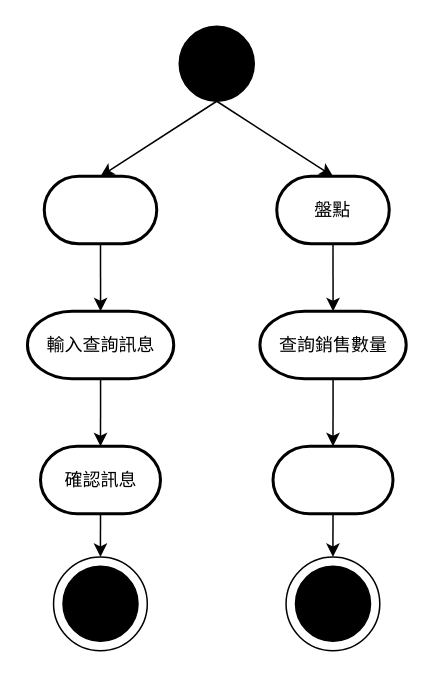
Some shapes in this 434 by 678 pixel diagram are drawn without their labels. The shapes that lost their labels are listed below. From the top down, each one's centre as x and y in pixels, then its label:
At (100,209): "查詢".
At (332,479): "進行盤點".
